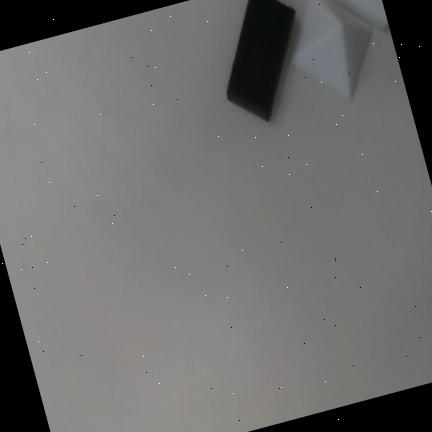Paralelepipedo: (226, 0, 295, 122), (333, 0, 388, 29)
Piramide: (289, 0, 373, 103)
